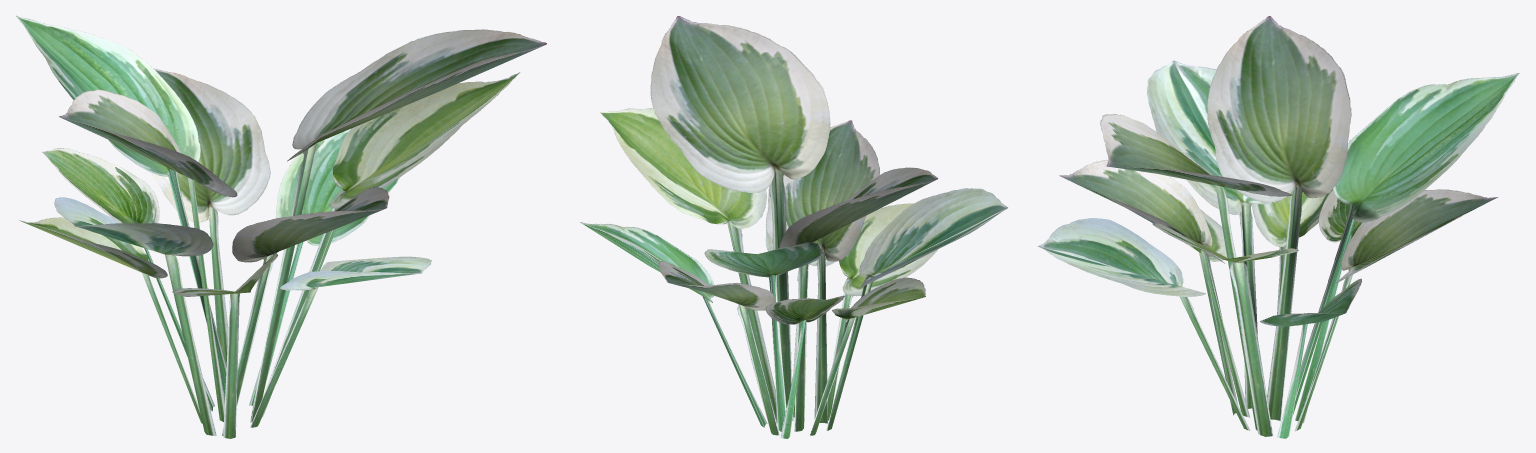
The model's file is plant_small_wg_00P_wild.fbx.
The picture shows the model from 3 angles, left to right: view 1: azimuth 30°, elevation 25°; view 2: azimuth 150°, elevation 25°; view 3: azimuth 270°, elevation 25°; orthographic projection. The views are drawn at different scales.
Parts seen in each view (by area): view 1: plant_small_wg_00P_wild; view 2: plant_small_wg_00P_wild; view 3: plant_small_wg_00P_wild.
Boxes of the visible parts, x1,y1,x2,y2 form: plant_small_wg_00P_wild: [16, 15, 546, 438]; plant_small_wg_00P_wild: [580, 16, 1007, 438]; plant_small_wg_00P_wild: [1038, 16, 1519, 438].
Size of the model in its own units: 71.12 by 55.22 by 66.22.
